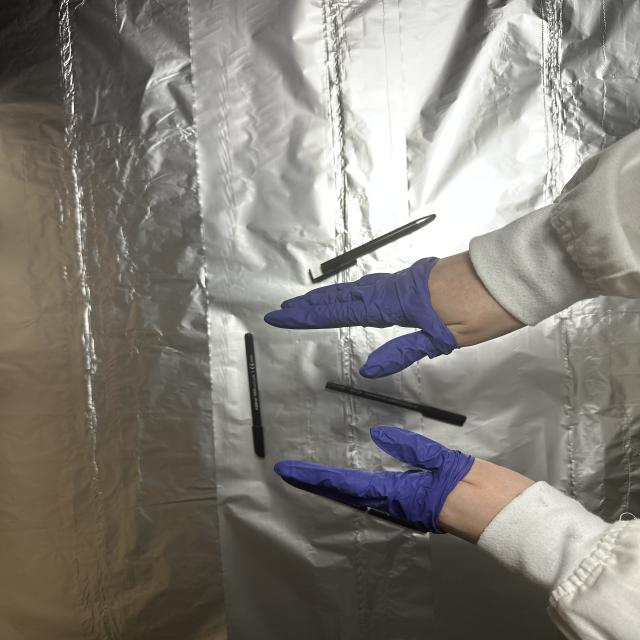glove_partial: (260, 249, 536, 378), (272, 422, 544, 548)
